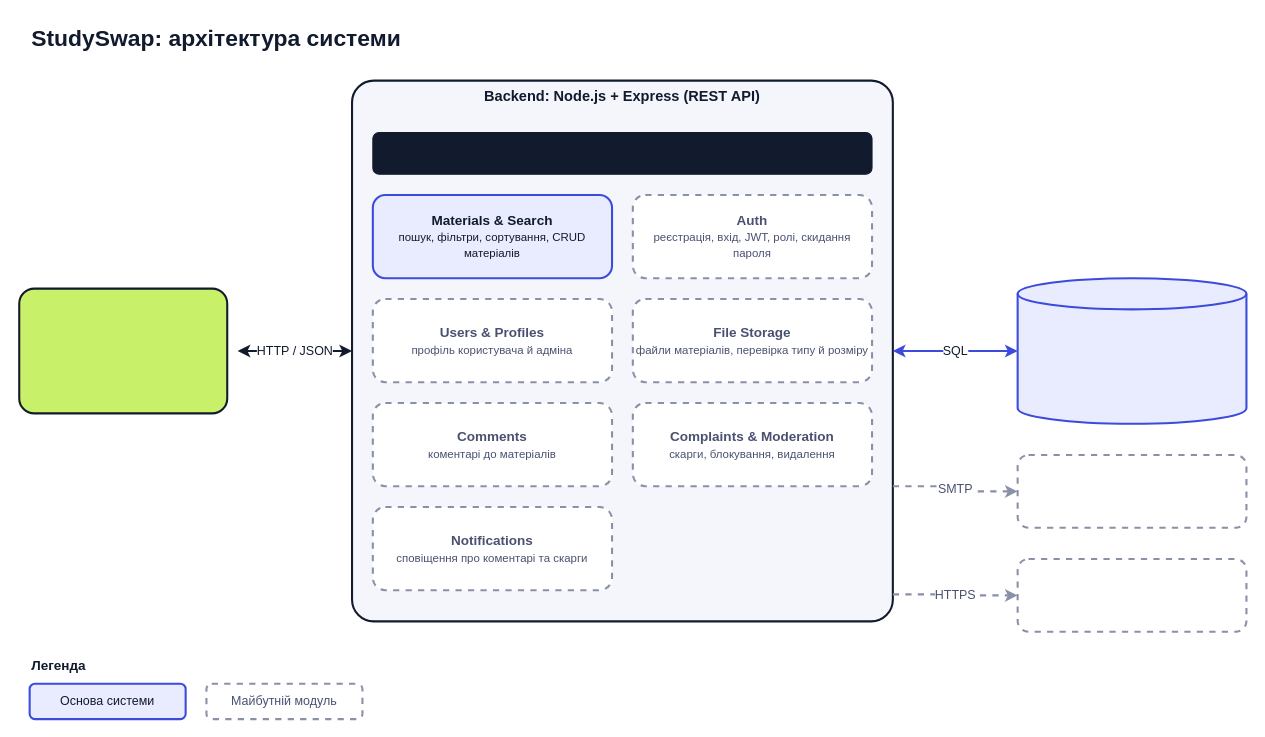
This 1265x737 diagram has some shape labels left out. Each missing label, with the centre of its shape:
"AI Assistant зовнішнє AI API, допомога з пошуком" belongs at pixel 1131 594.
"api/ (роути) → service/ (логіка) → domain/ (сутності)" belongs at pixel 622 153.
"Client (браузер) HTML / CSS / JS сторінки, форми, fetch-запити" belongs at pixel 123 350.
"Database SQLite users, materials, comments, reports" belongs at pixel 1131 350.
"Email Service листи для скидання пароля" belongs at pixel 1131 490.
